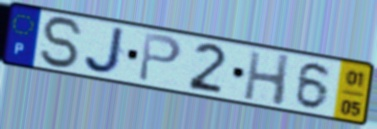2: (188, 41, 229, 97)
6: (294, 60, 334, 111)
H: (242, 49, 294, 109)
J: (82, 26, 128, 77)
P: (136, 31, 184, 85)
S: (39, 15, 87, 71)
